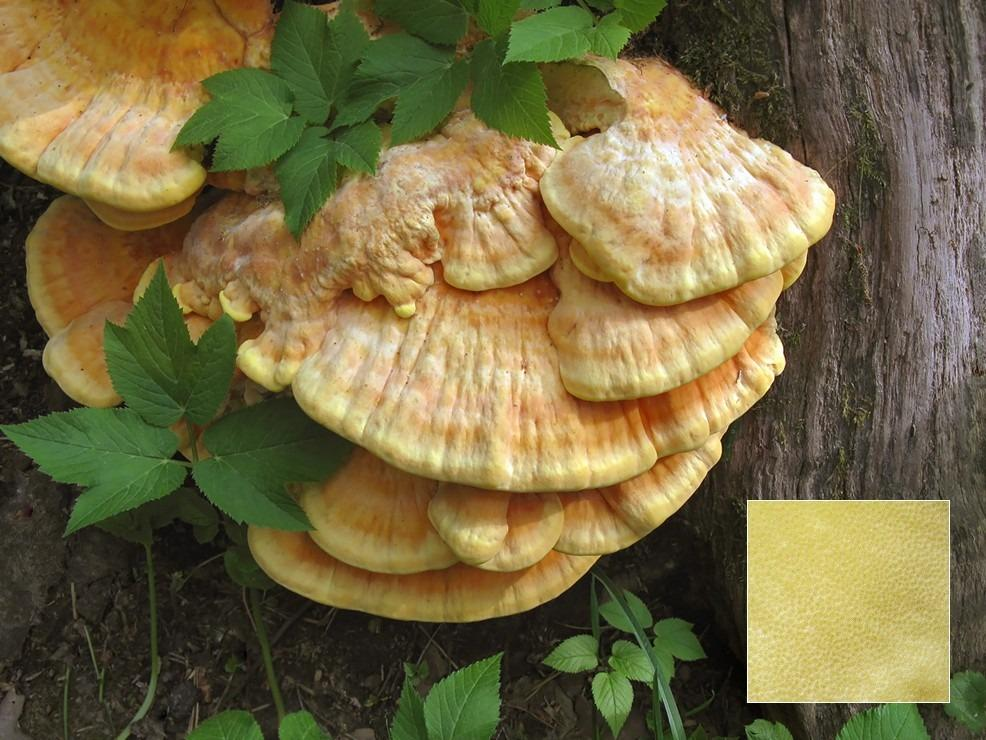Sulphur-yellow tinder fungus: (165, 58, 833, 620)
